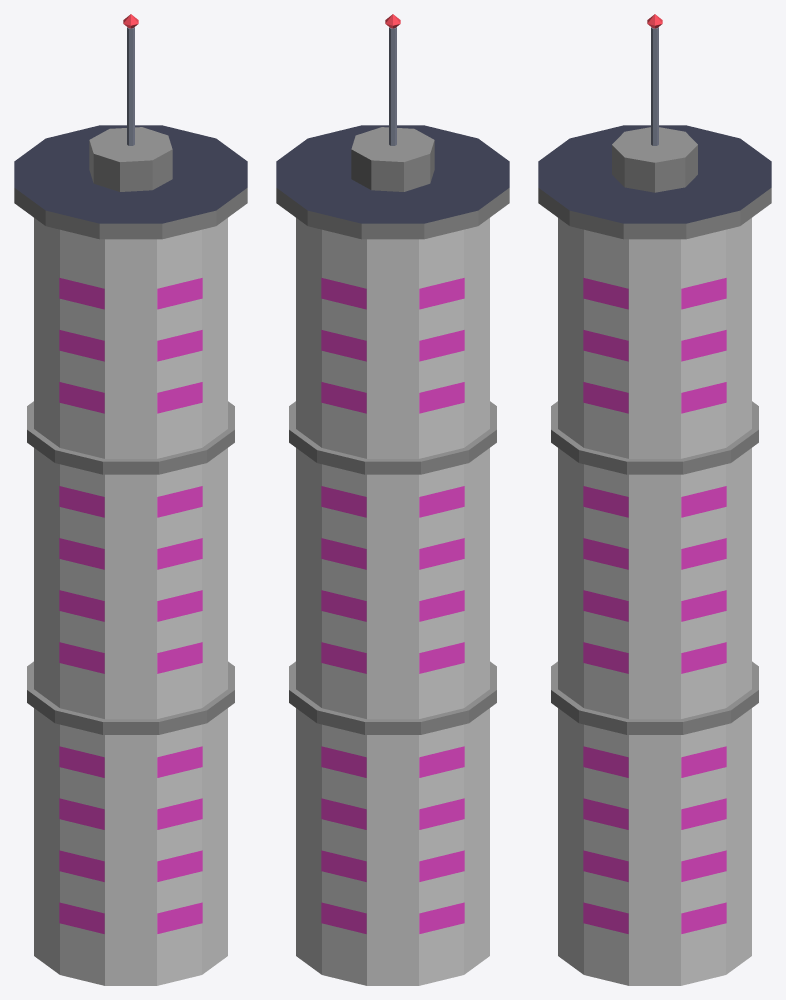
The model's file is tower_round.obj.
3 views of the same model, side by side, from view 1: azimuth 30°, elevation 25°; view 2: azimuth 150°, elevation 25°; view 3: azimuth 270°, elevation 25° (orthographic).
Size of the model in its own units: 16.23 by 71.54 by 16.23.
